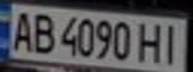0: (112, 18, 136, 62), (75, 15, 96, 58)
4: (54, 14, 81, 57)
9: (93, 16, 115, 61)
A: (6, 8, 36, 53)
B: (27, 10, 57, 55)
H: (136, 19, 166, 64)
I: (157, 20, 184, 64)
